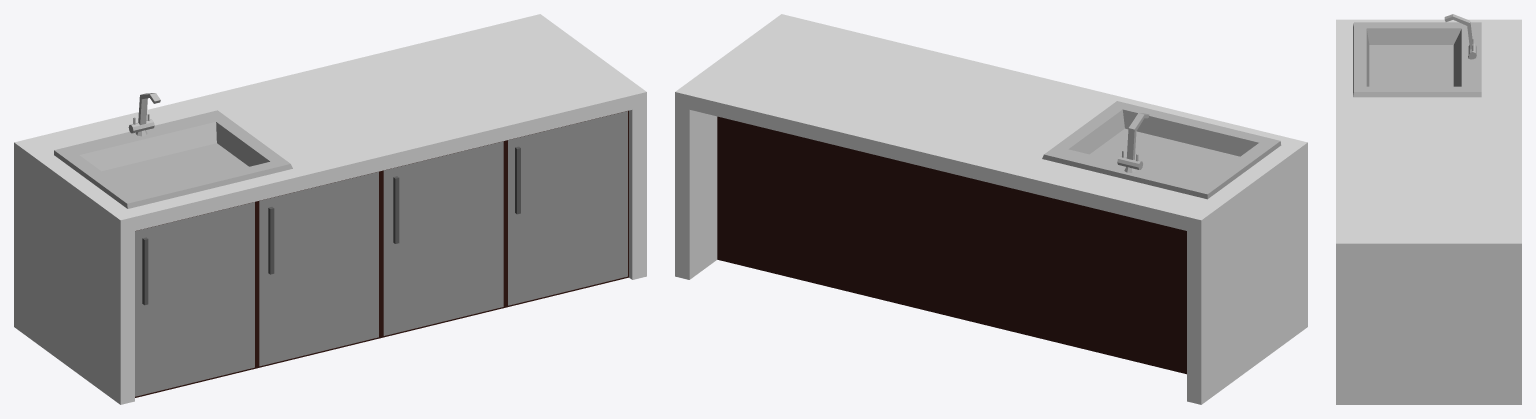
3 renders of one model, left to right at view 1: azimuth 30°, elevation 25°; view 2: azimuth 150°, elevation 25°; view 3: azimuth 270°, elevation 25°, orthographic. The views are drawn at different scales.
Visible parts, largest first — view 1: kitchen_item_018; view 2: kitchen_item_018; view 3: kitchen_item_018.
Boxes of the visible parts, left/top/right/bottom form: kitchen_item_018: left=14, top=14, right=646, bottom=404; kitchen_item_018: left=675, top=14, right=1307, bottom=404; kitchen_item_018: left=1336, top=14, right=1521, bottom=404.
Size of the model in its own units: 2.38 by 1.03 by 0.8333.
